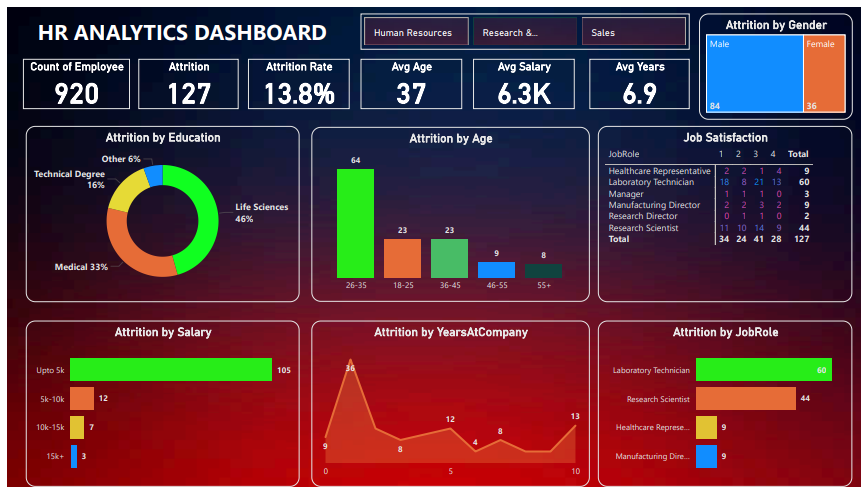

What the dashboard file says about the page in this screenshot:
{"tool":"powerbi","page":{"name":"Page 1","canvas":[1280,720],"ordinal":0},"visuals":[{"type":"card","title":"Count of Employee","fields":{"Values":["Sum(HR_Analytics.EmployeeCount)"]},"box":[23.5,78.2,160.2,75.1],"z":0},{"type":"card","title":"Attrition Rate","fields":{"Values":["HR_Analytics.AttritionRate"]},"box":[361.4,78,151.7,75.1],"z":1000},{"type":"card","title":"Avg Age","fields":{"Values":["Avg(HR_Analytics.Age)"]},"box":[529.5,78.2,151.7,75.1],"z":2000},{"type":"card","title":"Attrition","fields":{"Values":["Sum(HR_Analytics.AttritionCount)"]},"box":[196.4,78.2,150.2,75.1],"z":3000},{"type":"card","title":"Avg Salary","fields":{"Values":["Avg(HR_Analytics.MonthlyIncome)"]},"box":[698.1,78.2,151.7,75.1],"z":4000},{"type":"card","title":"Avg Years","fields":{"Values":["Avg(HR_Analytics.YearsAtCompany)"]},"box":[872.5,78.2,150.2,75.1],"z":5000},{"type":"donutChart","title":"Attrition by Education","fields":{"Category":["HR_Analytics.EducationField"],"Y":["Sum(HR_Analytics.AttritionCount)"]},"box":[28.3,178.6,409.6,263.6],"z":6000},{"type":"columnChart","title":"Attrition by Age","fields":{"Y":["Sum(HR_Analytics.AttritionCount)"],"Category":["HR_Analytics.AgeGroup"]},"box":[456.4,180,416.7,262.2],"z":7000},{"type":"pivotTable","title":"Job Satisfaction","fields":{"Values":["Sum(HR_Analytics.AttritionCount)"],"Rows":["HR_Analytics.JobRole"],"Columns":["HR_Analytics.JobSatisfaction"]},"box":[885.8,178.6,381.3,263.6],"z":8000},{"type":"barChart","title":"Attrition by Salary","fields":{"Y":["Sum(HR_Analytics.AttritionCount)"],"Category":["HR_Analytics.SalarySlab"]},"box":[28.3,470.6,409.6,249.4],"z":9000},{"type":"barChart","title":"Attrition by JobRole","fields":{"Y":["Sum(HR_Analytics.AttritionCount)"],"Category":["HR_Analytics.JobRole"]},"box":[885.8,470.6,381.3,249.4],"z":10000},{"type":"areaChart","title":"Attrition by YearsAtCompany","fields":{"Category":["HR_Analytics.YearsAtCompany"],"Y":["Sum(HR_Analytics.AttritionCount)"]},"box":[456.4,470.6,416.7,249.4],"z":11000},{"type":"treemap","title":"Attrition by Gender","fields":{"Group":["HR_Analytics.Gender"],"Values":["Sum(HR_Analytics.AttritionCount)"]},"box":[1037.5,9.9,229.6,158.7],"z":12000},{"type":"advancedSlicerVisual","fields":{"Values":["HR_Analytics.Department"]},"box":[530.1,9.9,493.2,53.9],"z":13000},{"type":"textbox","box":[41.1,9.9,472,53.9],"z":14000}]}

Visuals, with their boxes in screenshot pixels (x1, y1, x2, y2), scaled from the page's 1280x720 canvas onto the 868x494 screenshot:
"Count of Employee" card: detection(16, 54, 125, 105)
"Attrition Rate" card: detection(245, 54, 348, 105)
"Avg Age" card: detection(359, 54, 462, 105)
"Attrition" card: detection(133, 54, 235, 105)
"Avg Salary" card: detection(473, 54, 576, 105)
"Avg Years" card: detection(592, 54, 694, 105)
"Attrition by Education" donutChart: detection(19, 123, 297, 303)
"Attrition by Age" columnChart: detection(309, 124, 592, 303)
"Job Satisfaction" pivotTable: detection(601, 123, 859, 303)
"Attrition by Salary" barChart: detection(19, 323, 297, 493)
"Attrition by JobRole" barChart: detection(601, 323, 859, 493)
"Attrition by YearsAtCompany" areaChart: detection(309, 323, 592, 493)
"Attrition by Gender" treemap: detection(704, 7, 859, 116)
advancedSlicerVisual - HR_Analytics.Department: detection(359, 7, 694, 44)
textbox: detection(28, 7, 348, 44)
